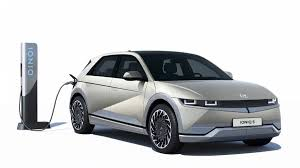Honda Ioniq: (67, 45, 288, 162)
